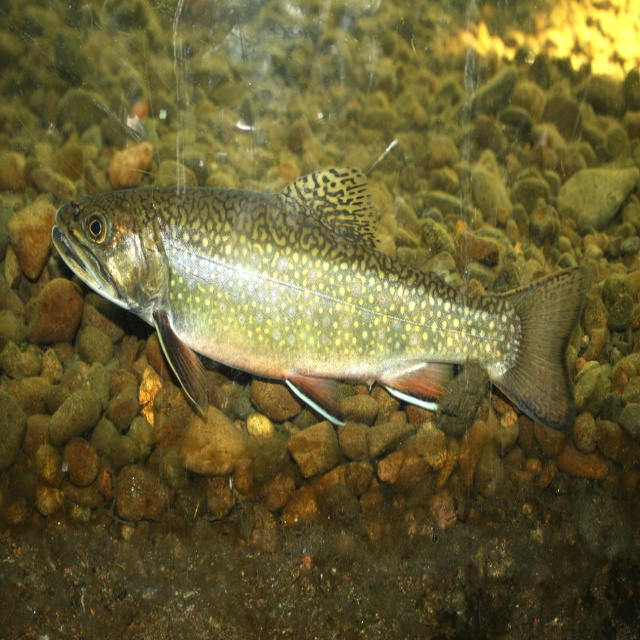Fish: (51, 167, 593, 427)
